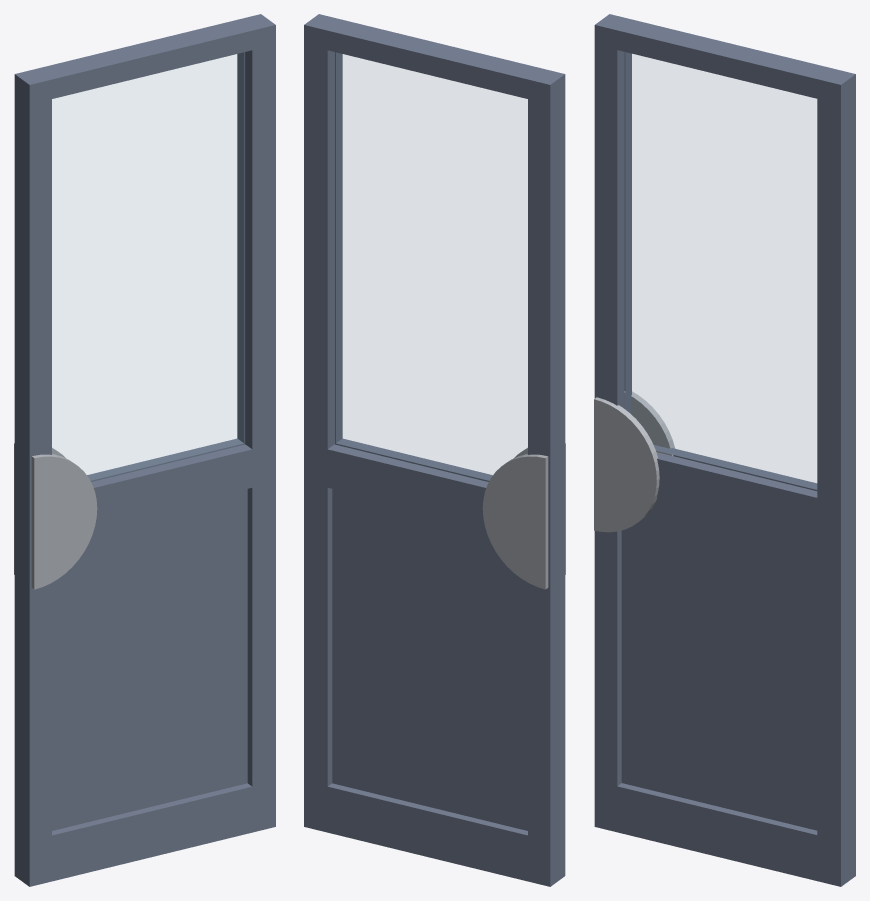
The model's file is puerta.fbx.
The picture shows the model from 3 angles, left to right: view 1: azimuth 30°, elevation 25°; view 2: azimuth 150°, elevation 25°; view 3: azimuth 330°, elevation 25°; orthographic projection.
Parts seen in each view (by area): view 1: puerta_I_A; view 2: puerta_I_A; view 3: puerta_I_A.
Part boxes in pixels (<box>): puerta_I_A: <box>14,14,275,886</box>; puerta_I_A: <box>304,14,565,886</box>; puerta_I_A: <box>594,14,855,886</box>.
Size of the model in its own units: 70.7 by 220 by 10.13.
